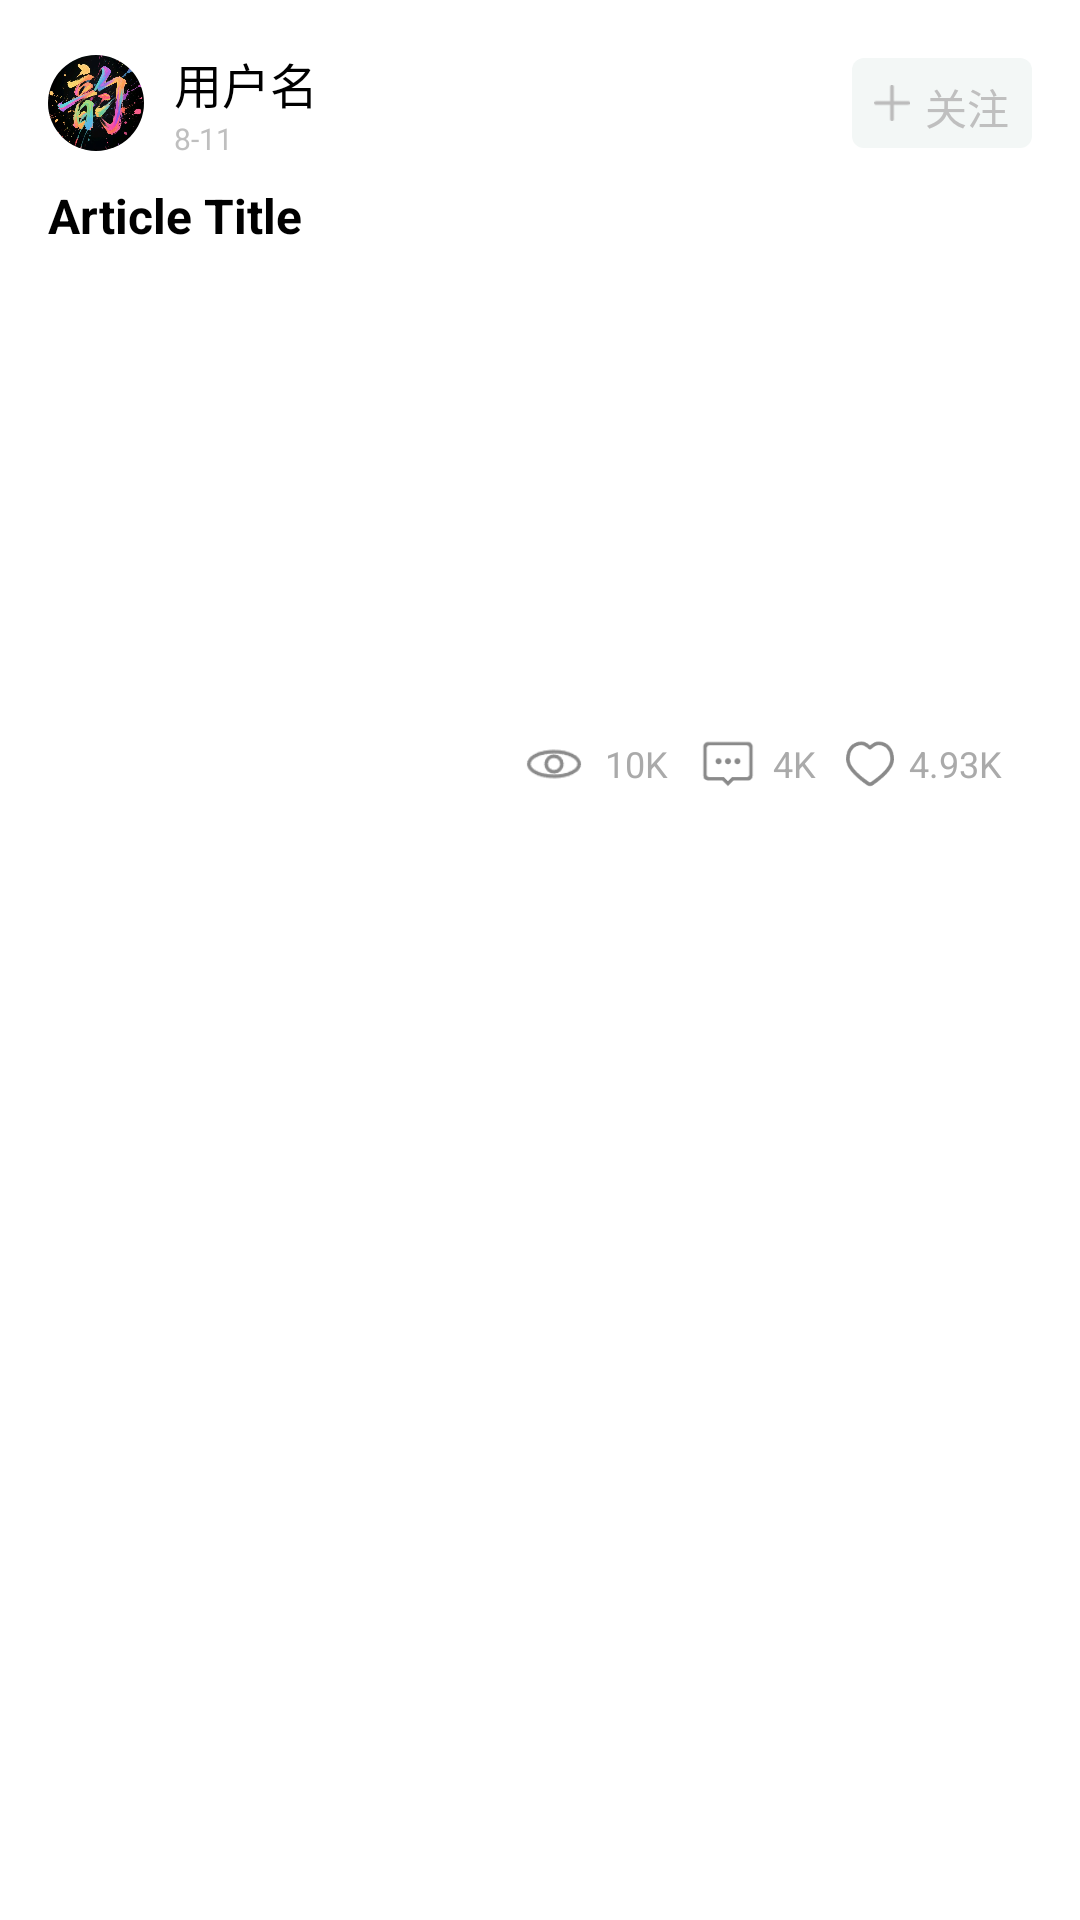

Screen size 1080 × 1920. Icon name, then its box in pixels as (x1, y1, x2, y2):
comment: (703, 742, 753, 786)
like: (846, 741, 894, 786)
user: (48, 55, 144, 151)
watch: (527, 749, 581, 779)
